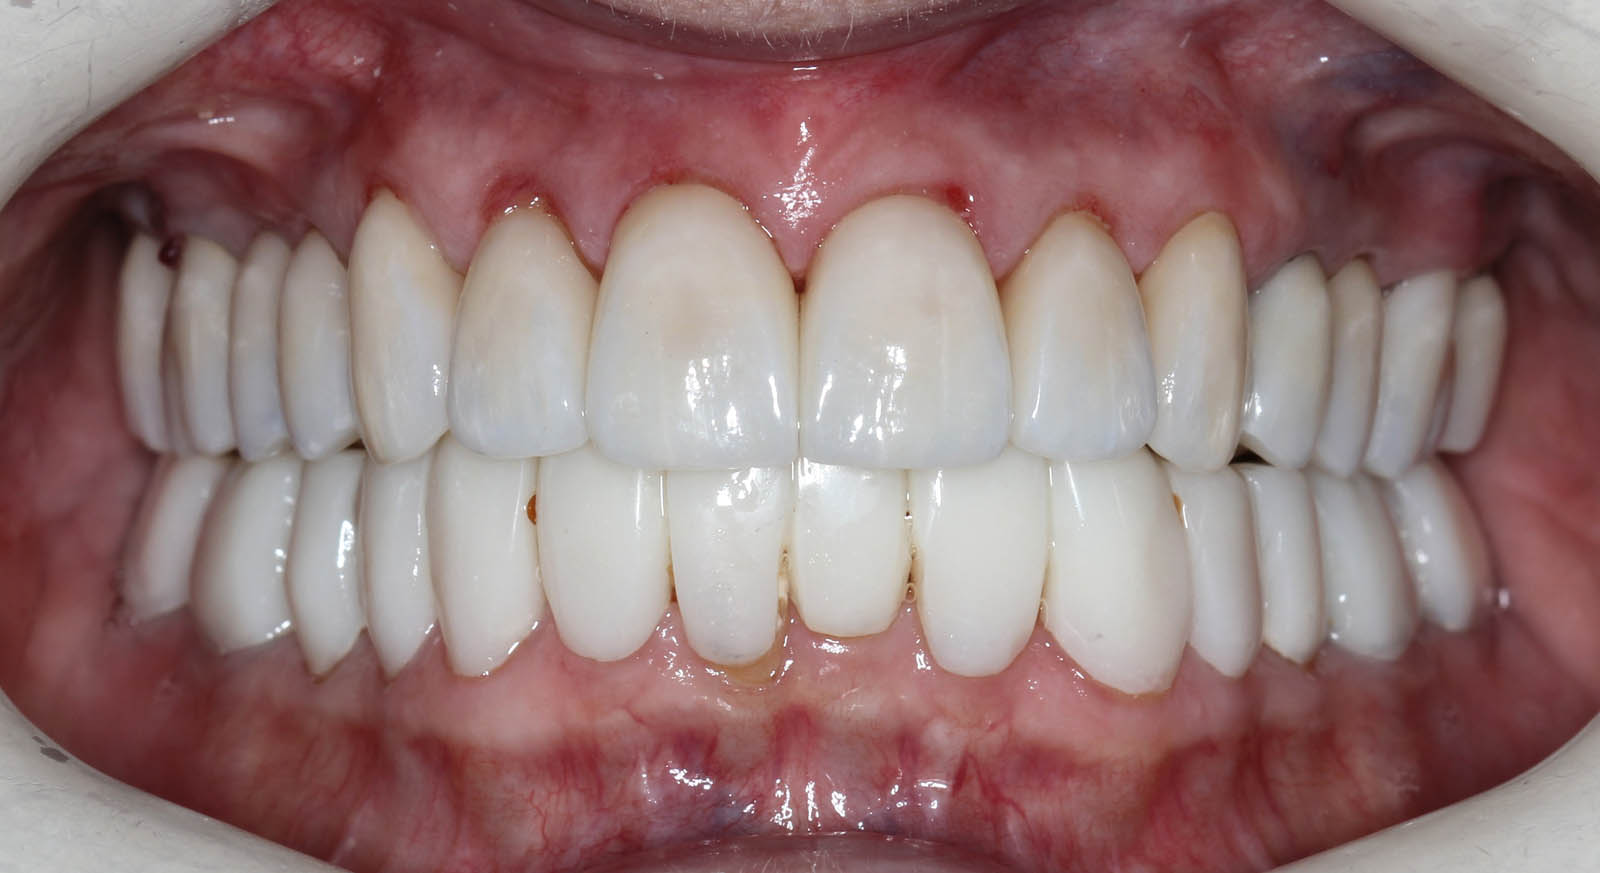LL1BC_healthy: (1186, 462, 1264, 684)
LL1M_healthy: (1317, 470, 1419, 666)
LL2BC_healthy: (1253, 472, 1327, 674)
LL2M_healthy: (1395, 464, 1503, 638)
LLCI_healthy: (795, 460, 910, 641)
LLC_healthy: (1053, 457, 1191, 703)
LLLI_healthy: (912, 462, 1052, 681)
LR1BC_healthy: (355, 460, 431, 667)
LR1M_healthy: (198, 467, 290, 655)
LR2BC_healthy: (288, 458, 365, 679)
LR2M_healthy: (121, 467, 202, 627)
LRCI_healthy: (667, 470, 788, 672)
LRC_healthy: (426, 446, 546, 676)
LRLI_healthy: (533, 450, 676, 664)
UL1BC_healthy: (1250, 251, 1329, 470)
UL1M_healthy: (1383, 262, 1453, 476)
UL2BC_healthy: (1331, 255, 1376, 480)
UL2M_healthy: (1450, 274, 1507, 455)
ULCI_healthy: (798, 196, 1015, 470)
ULC_healthy: (1157, 210, 1245, 470)
ULLI_healthy: (1010, 207, 1157, 464)
UR1BC_healthy: (279, 234, 362, 460)
UR1M_healthy: (157, 231, 233, 464)
UR2BC_healthy: (229, 231, 291, 470)
UR2M_healthy: (110, 239, 165, 462)
URCI_healthy: (591, 188, 799, 472)
URC_healthy: (348, 194, 453, 464)
URLI_healthy: (450, 191, 590, 469)
